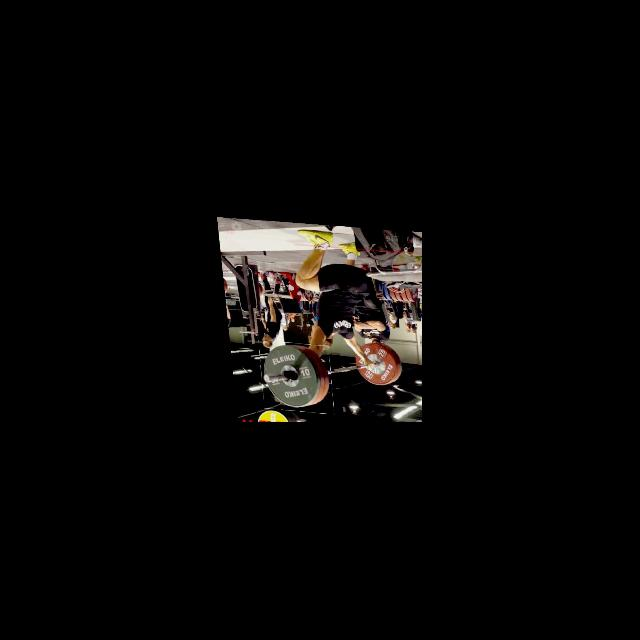barbell: (255, 340, 331, 412)
